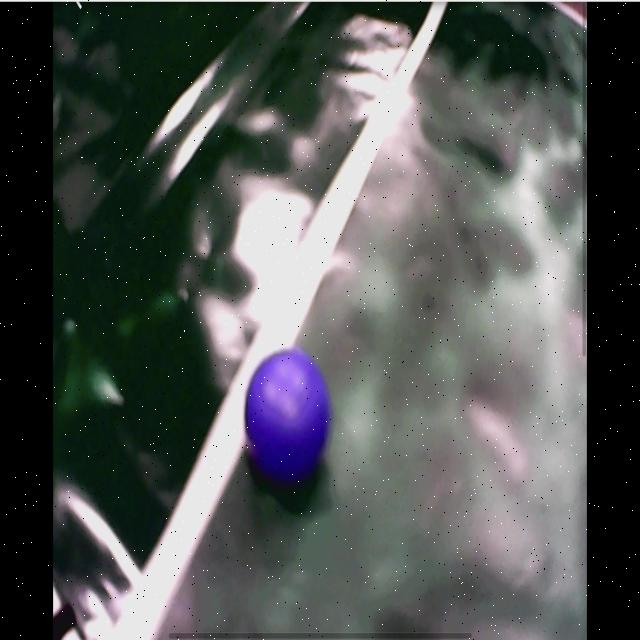ball: (245, 350, 332, 477)
